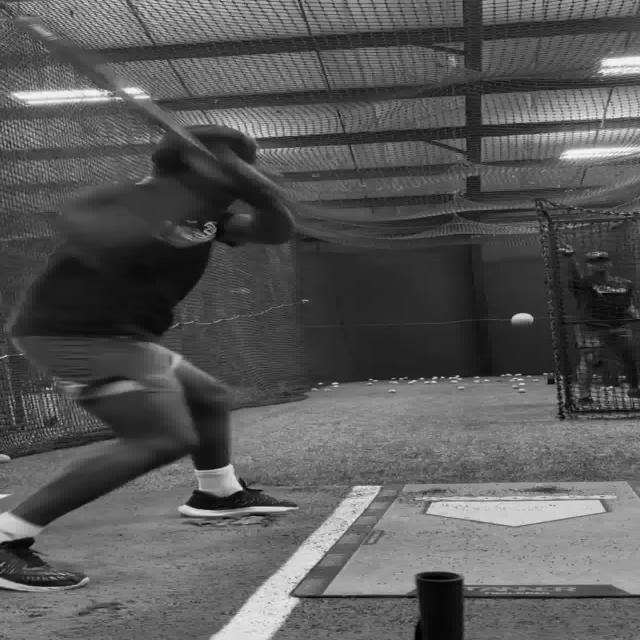base: (434, 497, 614, 529)
baseball: (509, 312, 534, 326)
bat: (12, 15, 296, 231)
shoe: (0, 536, 90, 592), (176, 480, 298, 518)
